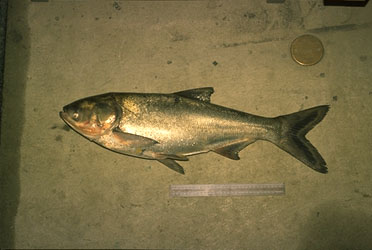fish: (36, 82, 348, 185)
